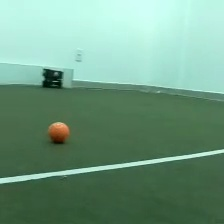ball: (45, 119, 71, 145)
goal: (1, 60, 75, 90)
robot: (39, 66, 65, 90)
